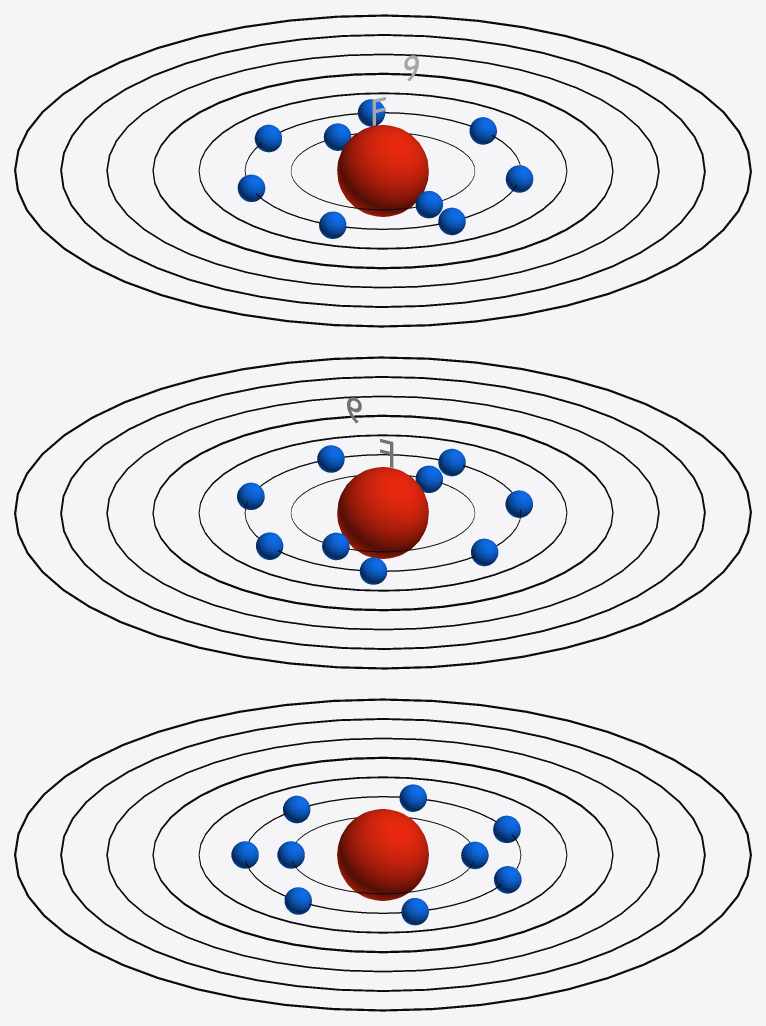
The picture shows the model from 3 angles, top to bottom: view 1: azimuth 30°, elevation 25°; view 2: azimuth 150°, elevation 25°; view 3: azimuth 270°, elevation 25°; orthographic projection.
Visible parts, largest first — view 1: Proton, n7, F2, n6, n5, n4, n3, F1, n2; view 2: Proton, n7, F2, n6, n5, n4, n3, F1, n2; view 3: Proton, n7, F2, n6, n5, n4, n3, F1, n2, n1.
Boxes of the visible parts, <box> form: Proton: <box>337,125,428,216</box>; n7: <box>14,14,751,327</box>; F2: <box>237,99,533,238</box>; n6: <box>60,34,705,307</box>; n5: <box>106,53,659,288</box>; n4: <box>152,72,613,269</box>; n3: <box>198,92,567,249</box>; F1: <box>323,123,442,218</box>; n2: <box>244,112,520,229</box>; Proton: <box>337,467,428,558</box>; n7: <box>14,356,751,669</box>; F2: <box>237,445,532,584</box>; n6: <box>60,376,705,649</box>; n5: <box>106,395,659,630</box>; n4: <box>152,414,613,611</box>; n3: <box>198,434,567,591</box>; F1: <box>322,465,442,560</box>; n2: <box>244,454,521,571</box>; Proton: <box>337,809,428,900</box>; n7: <box>14,698,751,1011</box>; F2: <box>231,784,521,925</box>; n6: <box>60,718,705,991</box>; n5: <box>106,737,659,972</box>; n4: <box>152,756,613,953</box>; n3: <box>198,776,567,933</box>; F1: <box>277,841,488,869</box>; n2: <box>245,796,521,913</box>; n1: <box>292,817,473,894</box>.
Size of the model in its own units: 802 by 180 by 802.
